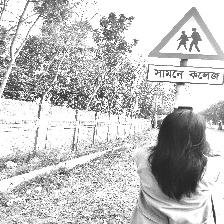College-in-front: (148, 0, 224, 89)
